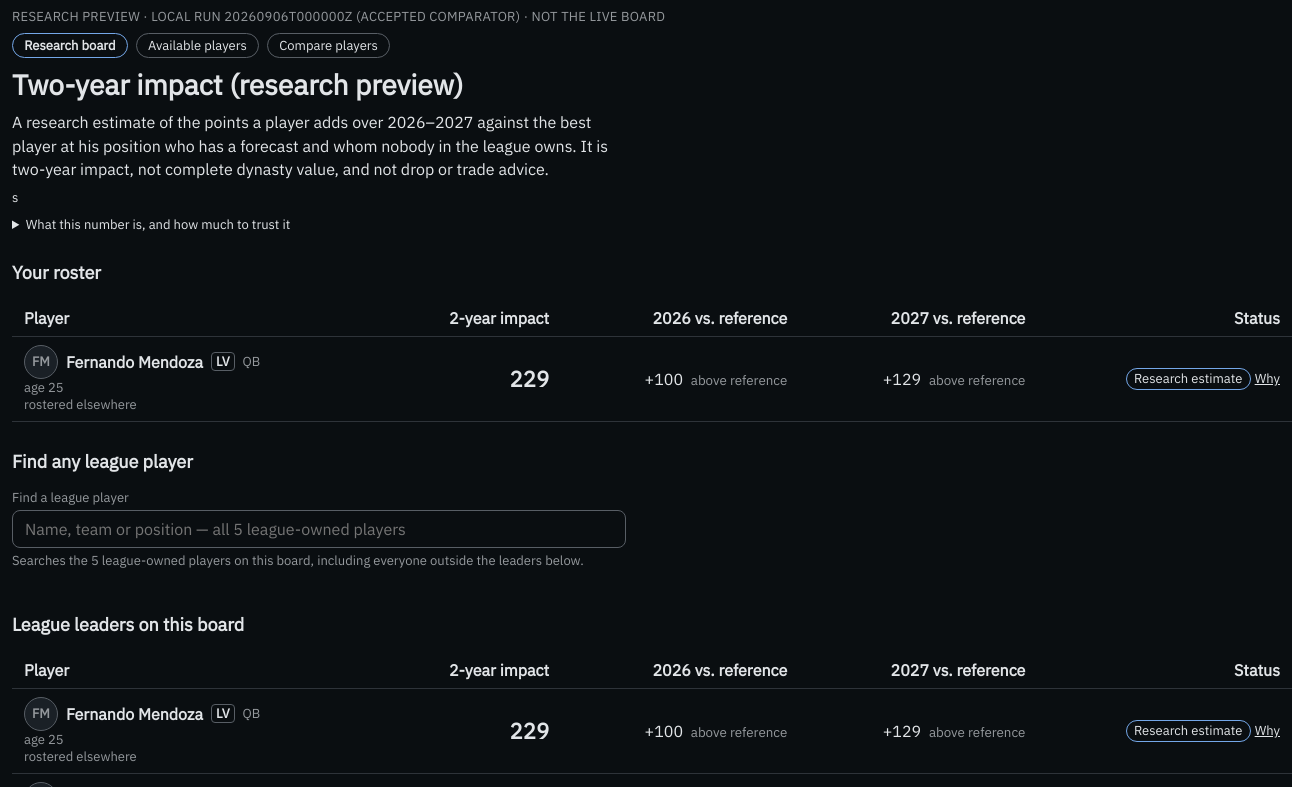
Test: ResearchPreview search › orders matches by impact and shows season-by-season expected points behind Why
The image size is (1292, 787).
Type "rb" into the search field labelled "Find a league player" at (319, 529), box [12, 510, 626, 548]
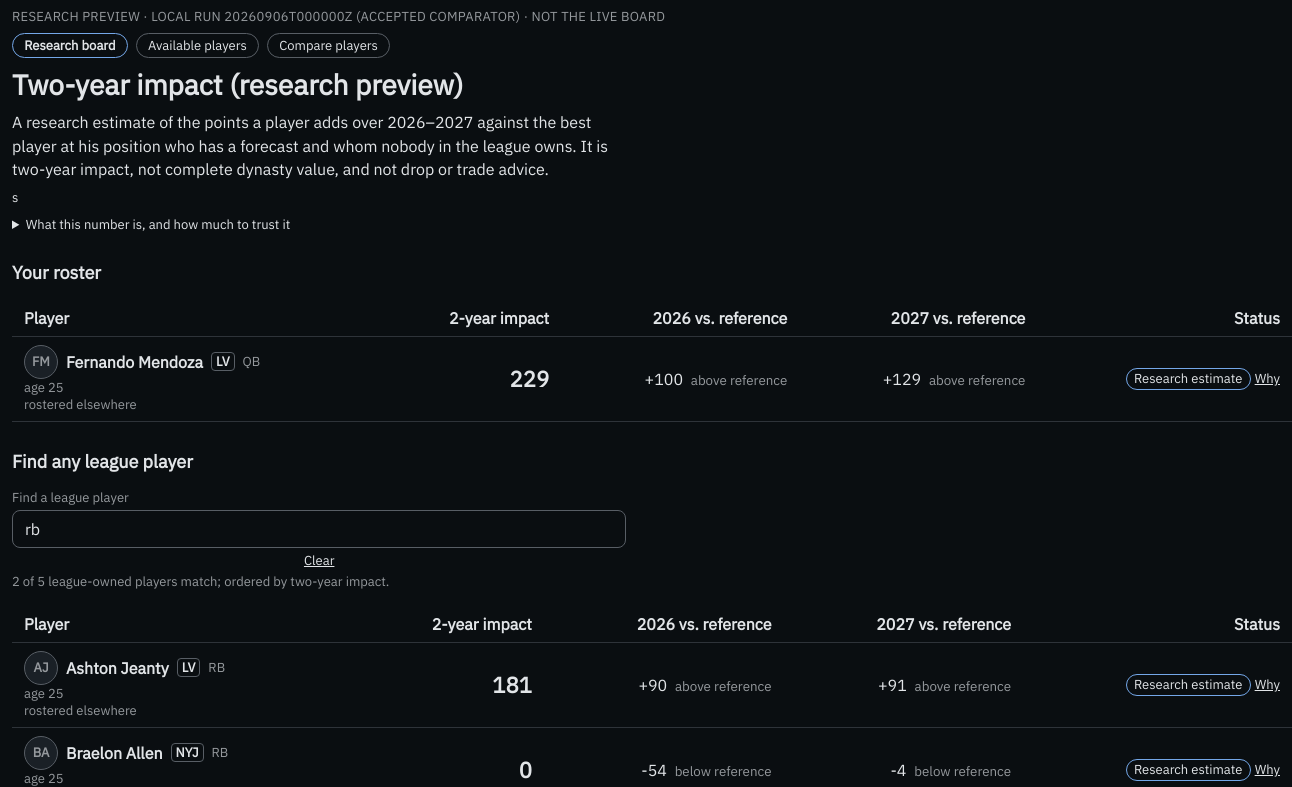
Now the number of buttons "Why" is 2
Click the button "Why" in the row of "-54" at (1267, 770), box [1255, 762, 1280, 778]
(page scrolled)
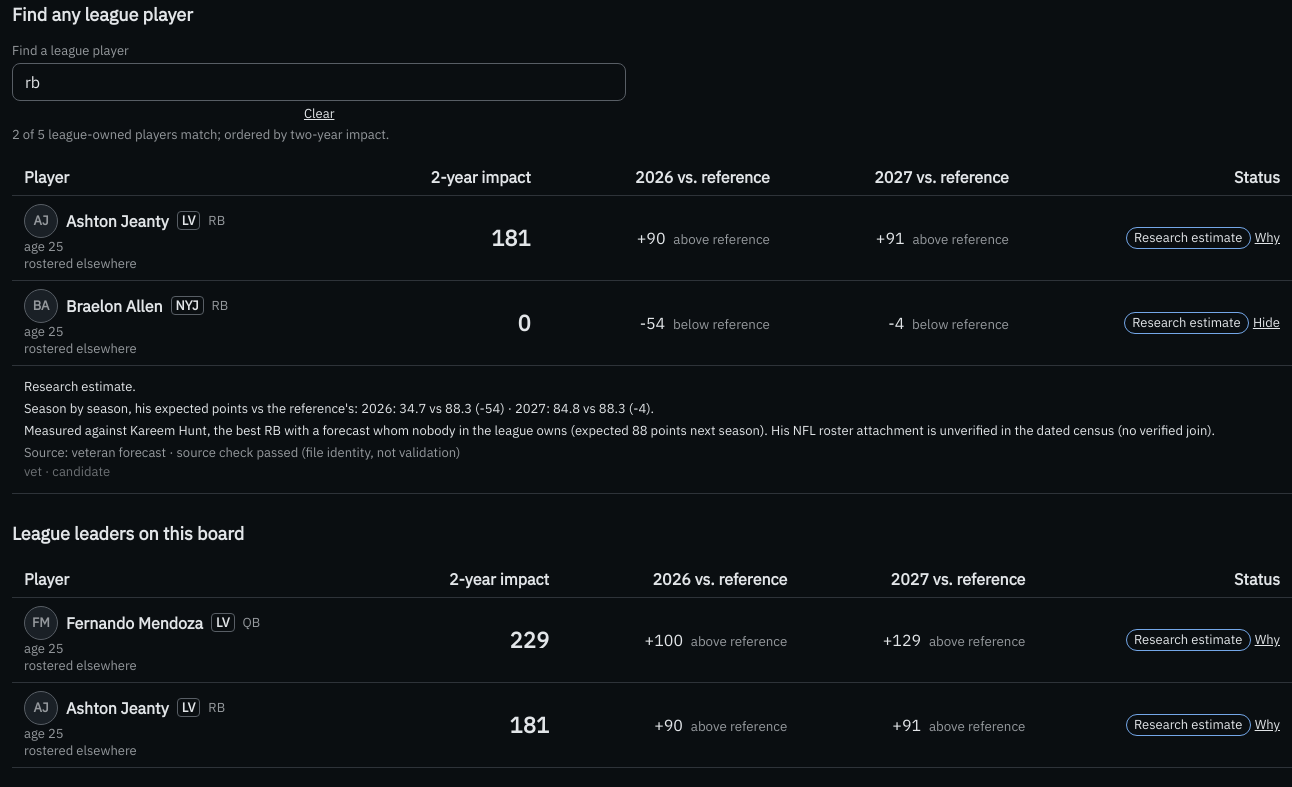
Now the text "2026: 34.7 vs 88.3 (-54)" is shown, box [361, 400, 650, 417]
Now the text "NFL roster attachment is unverified" is shown, box [768, 422, 1215, 439]
